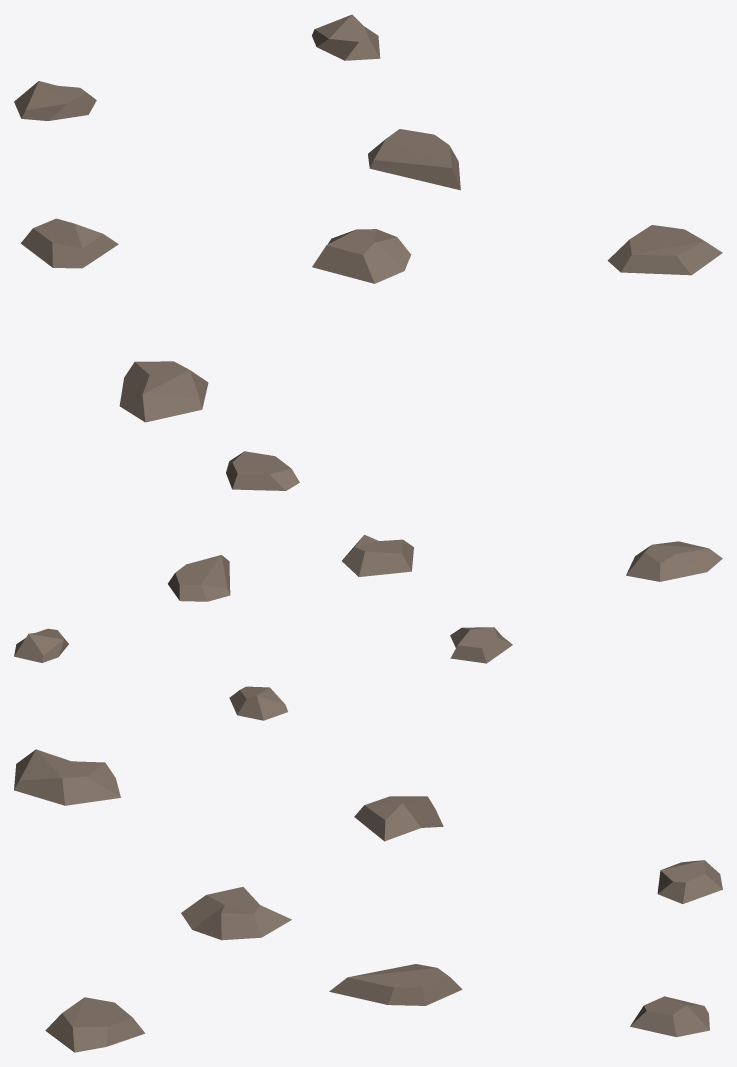
The model's file is enchantedforest_stone_3.fbx.
3 views of the same model, one above another, from view 1: azimuth 30°, elevation 25°; view 2: azimuth 150°, elevation 25°; view 3: azimuth 270°, elevation 25° (orthographic). The views are drawn at different scales.
Parts seen in each view (by area): view 1: Cylinder.013; view 2: Cylinder.013; view 3: Cylinder.013.
Boxes of the visible parts, box(x1,y1,x2,y2) form: Cylinder.013: box(14, 14, 722, 422); Cylinder.013: box(14, 451, 722, 720); Cylinder.013: box(14, 749, 722, 1052).
Bounding box in the file's own units: 1.8 × 0.0683 × 1.86.
